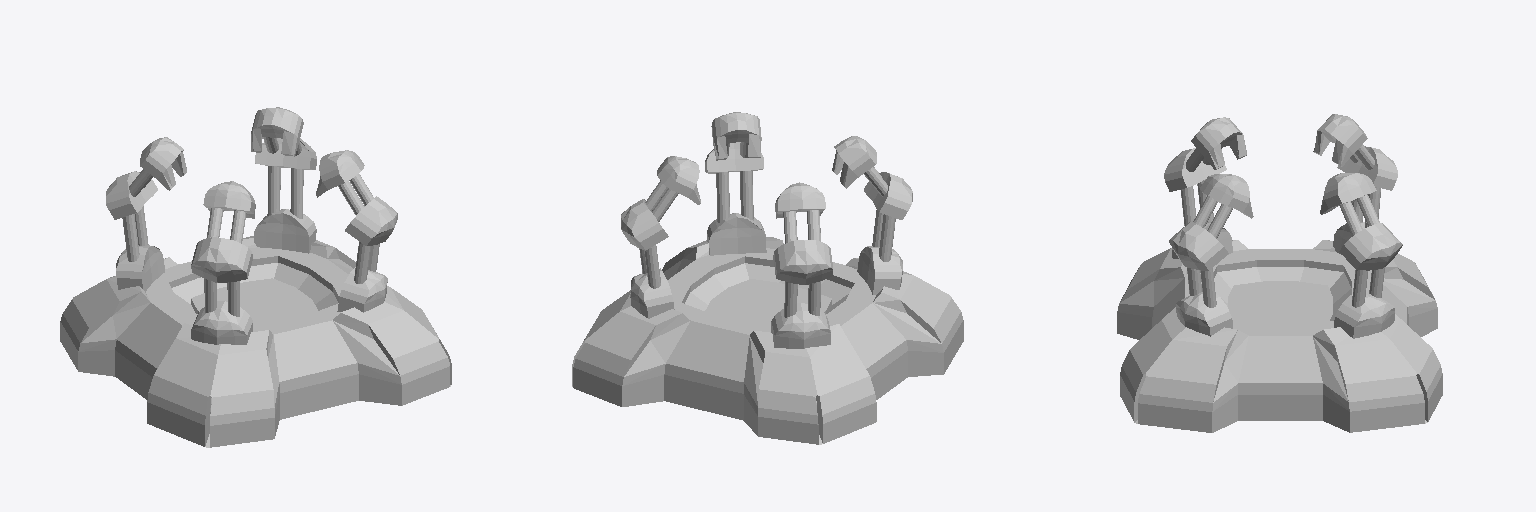
The model's file is Immortality Chamber.obj.
The picture shows the model from 3 angles: view 1: azimuth 30°, elevation 25°; view 2: azimuth 150°, elevation 25°; view 3: azimuth 270°, elevation 25°; orthographic projection.
Visible parts, largest first — view 1: polySurface61; view 2: polySurface61; view 3: polySurface61.
Boxes of the visible parts, x1,y1,x2,y2 form: polySurface61: [60, 107, 451, 447]; polySurface61: [572, 112, 963, 444]; polySurface61: [1117, 114, 1442, 432].
Size of the model in its own units: 8.15 by 5.9 by 8.03.